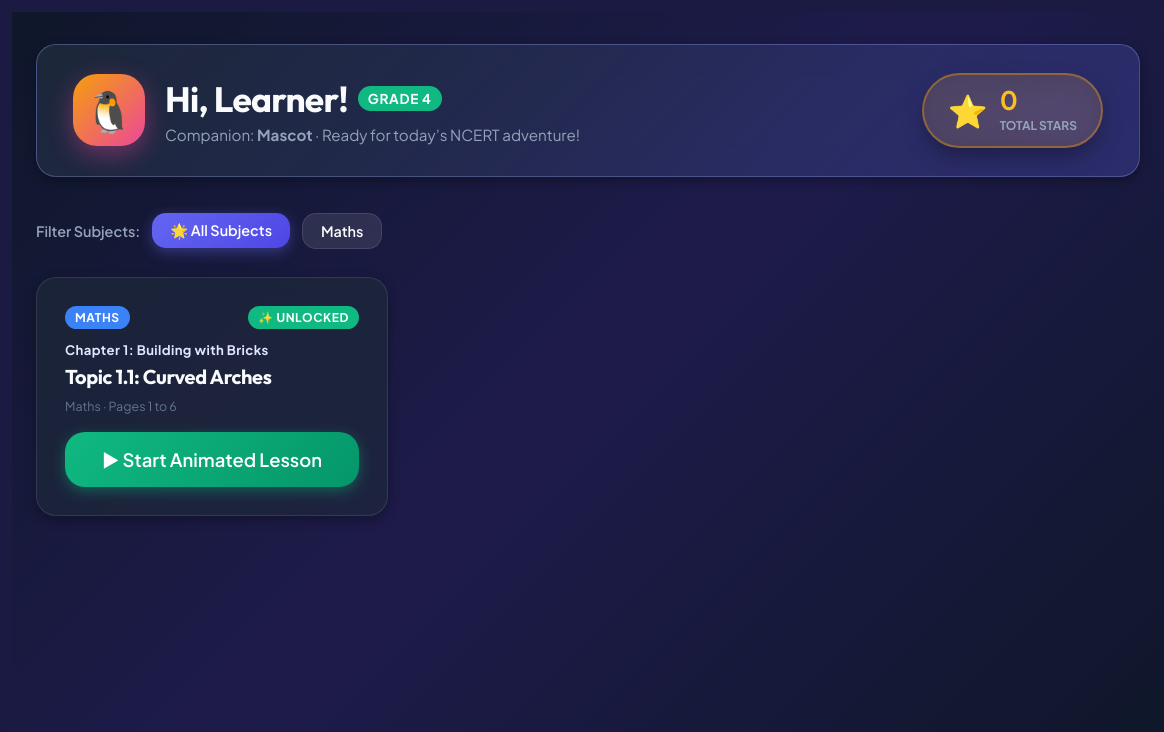
it: displays an approved lesson and opens its session
This screenshot has width=1164, height=732.
Expected: the heading "Topic 1.1: Curved Arches" is shown, [65,364,272,389]
Click the button "▶ Start Animated Lesson". click: (212, 459)
box: [65,432,359,487]
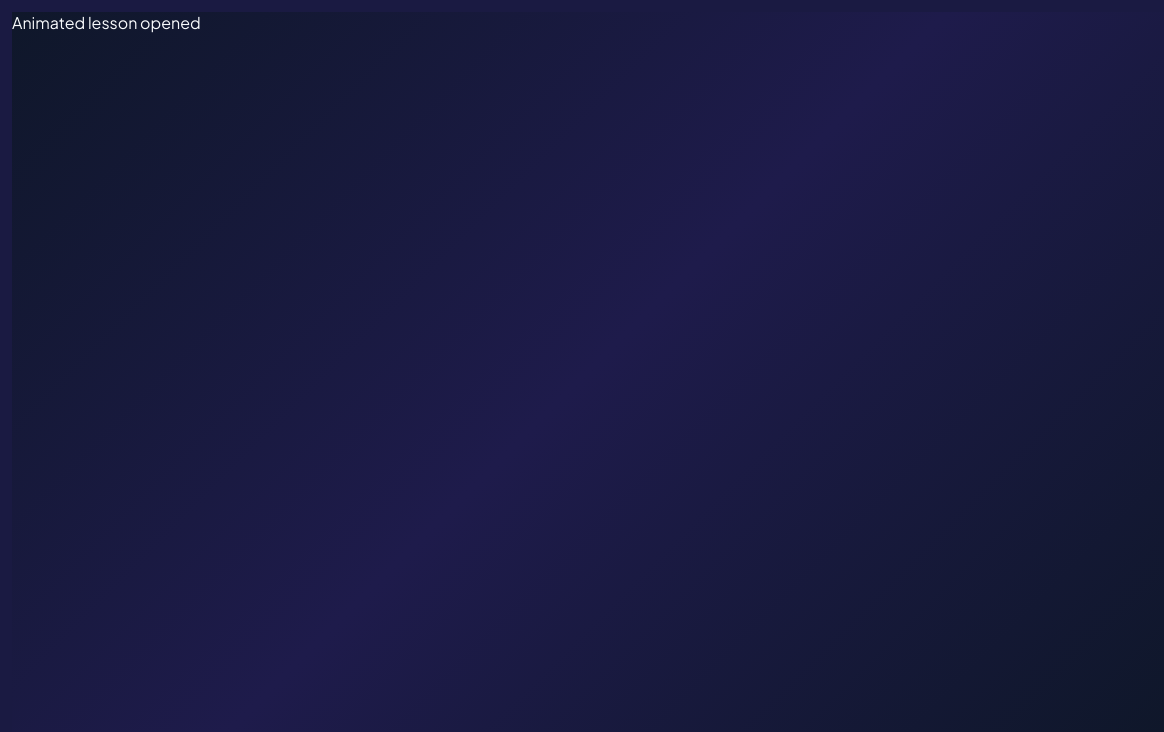
Result: the text "Animated lesson opened" is shown at [12,12,201,33]
